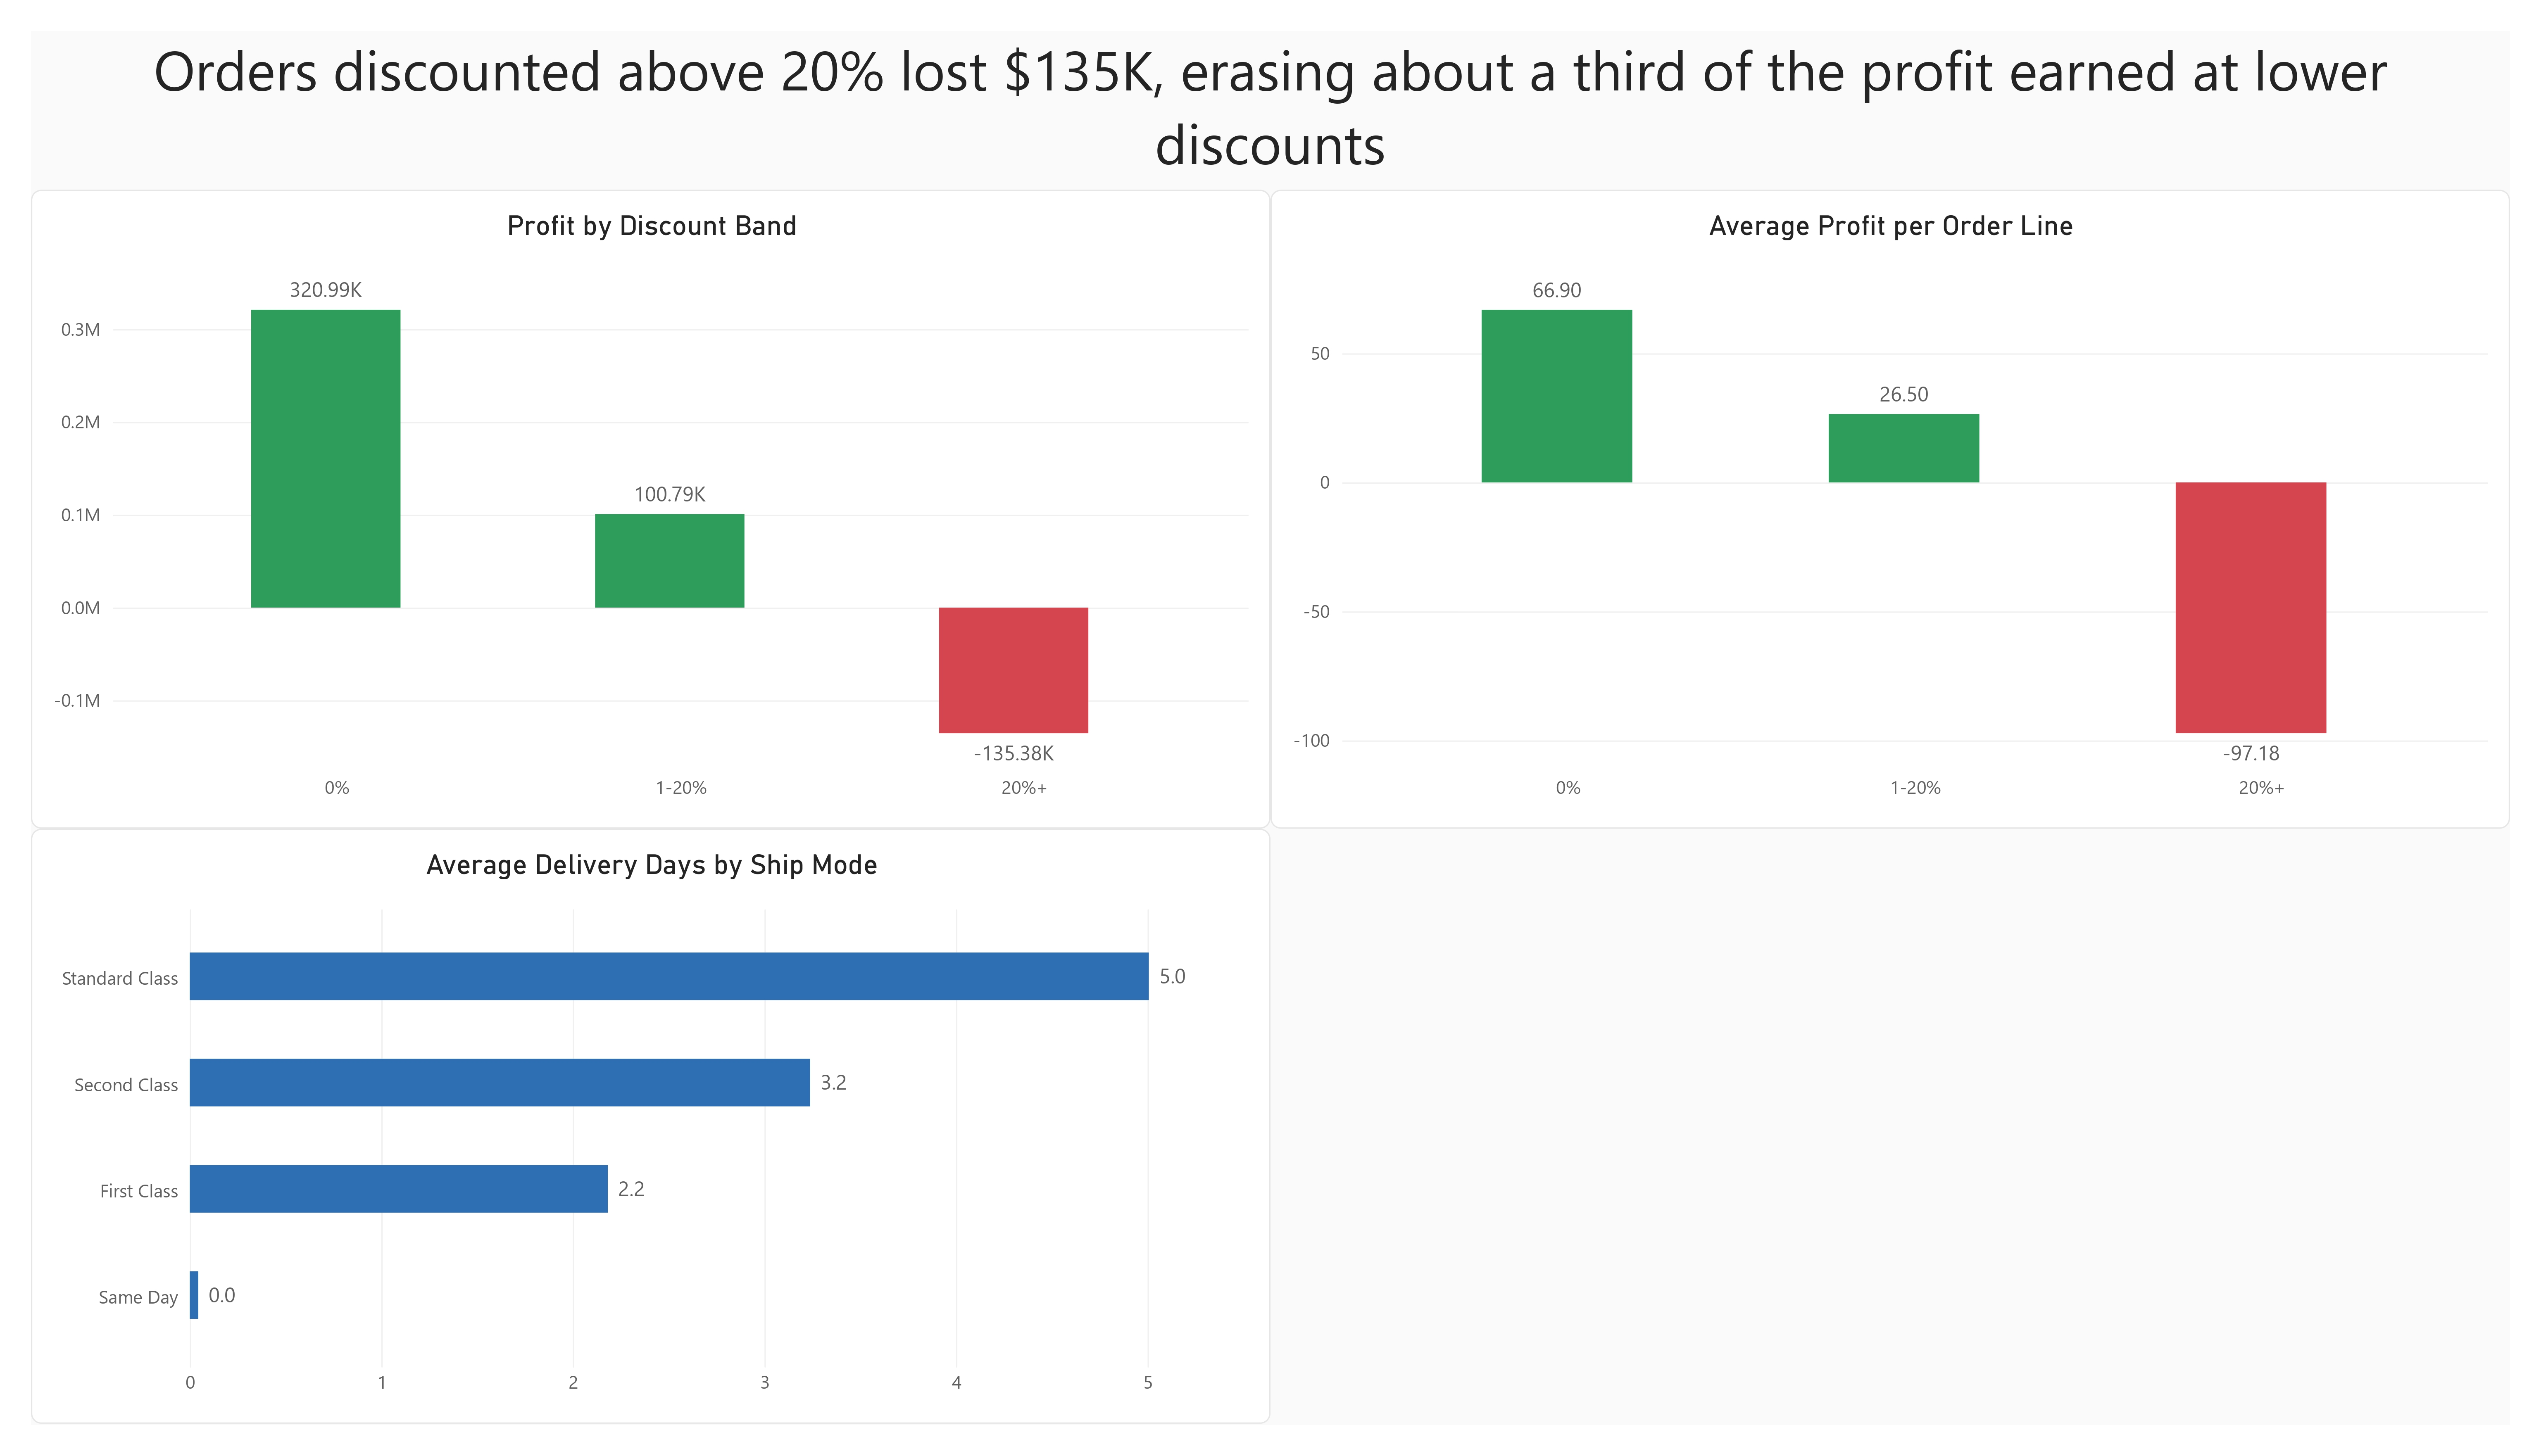

What the dashboard file says about the page in this screenshot:
{"tool":"powerbi","page":{"name":"Discount & Shipping","canvas":[1920,1080],"ordinal":2},"visuals":[{"type":"clusteredColumnChart","title":"Profit by Discount Band","fields":{"Category":["superstore superstore.Discount Band"],"Y":["superstore superstore.Total Profit"]},"box":[0,122.9,960,495.5],"z":0},{"type":"clusteredColumnChart","title":"Average Profit per Order Line","fields":{"Category":["superstore superstore.Discount Band"],"Y":["superstore superstore.Avg Profit per Line"]},"box":[960,122.9,960,495.5],"z":1000},{"type":"barChart","title":"Average Delivery Days by Ship Mode","fields":{"Category":["superstore superstore.ship_mode"],"Y":["superstore superstore.Avg Ship Days"]},"box":[0,618.4,960,460.6],"z":2000},{"type":"textbox","box":[960,618.4,960,69.9],"z":3000},{"type":"textbox","box":[0,0,1920,122.9],"z":3002}]}

Visuals, with their boxes on the page's 1920x1080 design canvas (x1, y1, x2, y2). These are canvas units, not pixel positions in the 2541x1456 screenshot, which may show the page scaled, cropped or inside an application window:
"Profit by Discount Band" clusteredColumnChart: 0, 123, 960, 618
"Average Profit per Order Line" clusteredColumnChart: 960, 123, 1920, 618
"Average Delivery Days by Ship Mode" barChart: 0, 618, 960, 1079
textbox: 960, 618, 1920, 688
textbox: 0, 0, 1920, 123
